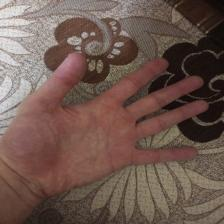five: (20, 50, 216, 174)
